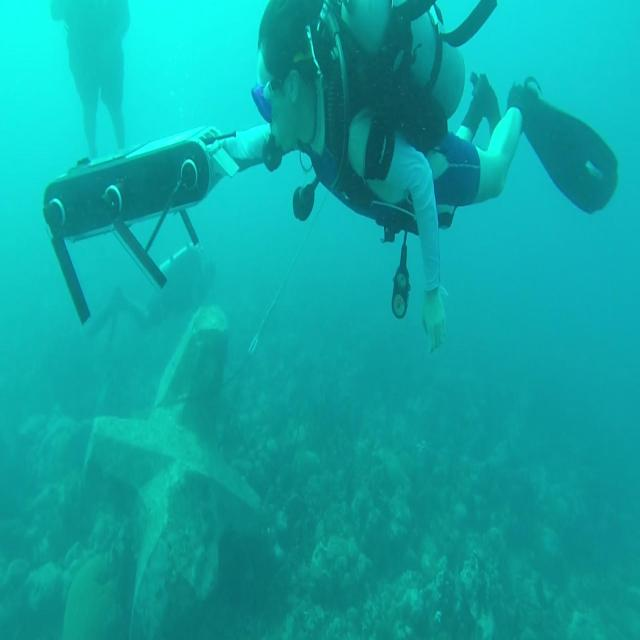human: (250, 0, 618, 353), (45, 2, 147, 164), (120, 244, 233, 333)
